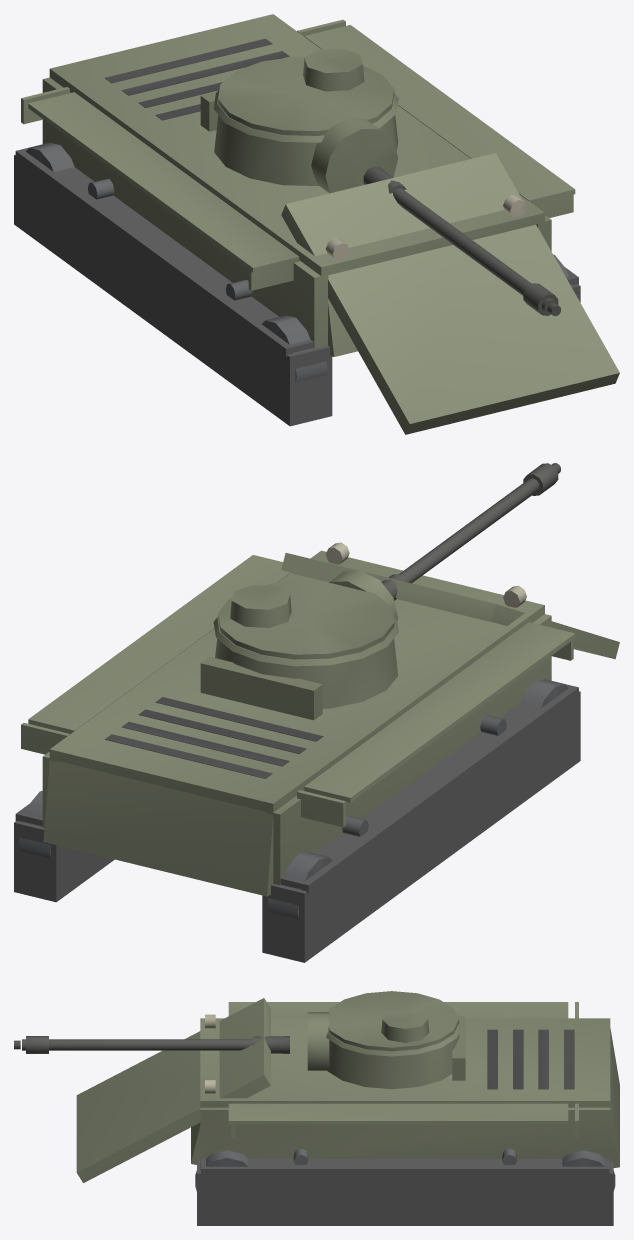
3 views of the same model, one above another, from view 1: azimuth 30°, elevation 25°; view 2: azimuth 150°, elevation 25°; view 3: azimuth 270°, elevation 25° (orthographic). The views are drawn at different scales.
Parts seen in each view (by area): view 1: glacis, hullSide, tracks, hullTop, turretRoof, turretFront, mantlet, barrel, wheel5, turretSide, lowerPlate, wheel6 (+1 smaller); view 2: hullTop, tracks, hullSide, hullRear, turretRoof, turretFront, glacis, turretRear, barrel, turretSide, wheel6, mantlet (+2 smaller); view 3: tracks, hullSide, hullTop, glacis, turretRoof, turretFront, barrel, mantlet, hullRear, turretSide, turretRear, wheel13 (+2 smaller).
Boxes of the visible parts, left/top/right/bottom form: glacis: left=281, top=153, right=619, bottom=434; hullSide: left=21, top=19, right=575, bottom=348; tracks: left=14, top=144, right=580, bottom=426; hullTop: left=49, top=14, right=544, bottom=275; turretRoof: left=218, top=48, right=394, bottom=135; turretFront: left=214, top=115, right=398, bottom=185; mantlet: left=311, top=118, right=398, bottom=193; barrel: left=363, top=166, right=560, bottom=316; wheel5: left=262, top=315, right=327, bottom=382; turretSide: left=213, top=89, right=398, bottom=142; lowerPlate: left=328, top=299, right=357, bottom=356; wheel6: left=26, top=142, right=74, bottom=171; hullTop: left=49, top=550, right=544, bottom=813; tracks: left=14, top=680, right=580, bottom=962; hullSide: left=21, top=542, right=575, bottom=885; hullRear: left=43, top=761, right=274, bottom=896; turretRoof: left=218, top=580, right=394, bottom=659; turretFront: left=215, top=639, right=398, bottom=708; glacis: left=281, top=553, right=619, bottom=659; turretRear: left=200, top=656, right=322, bottom=720; barrel: left=381, top=463, right=560, bottom=600; turretSide: left=213, top=612, right=398, bottom=666; wheel6: left=267, top=852, right=332, bottom=918; mantlet: left=329, top=571, right=398, bottom=620; tracks: left=197, top=1148, right=613, bottom=1225; hullSide: left=200, top=1002, right=610, bottom=1163; hullTop: left=200, top=1018, right=610, bottom=1107; glacis: left=76, top=998, right=270, bottom=1182; turretRoof: left=328, top=991, right=458, bottom=1051; turretFront: left=327, top=1034, right=459, bottom=1089; barrel: left=14, top=1036, right=289, bottom=1053; mantlet: left=307, top=1012, right=329, bottom=1070; hullRear: left=608, top=1028, right=619, bottom=1167; turretSide: left=326, top=1020, right=462, bottom=1056; turretRear: left=452, top=1016, right=465, bottom=1080; wheel13: left=562, top=1150, right=615, bottom=1190.
Bounding box in the file's own units: 4.18 × 2.73 × 9.01.
